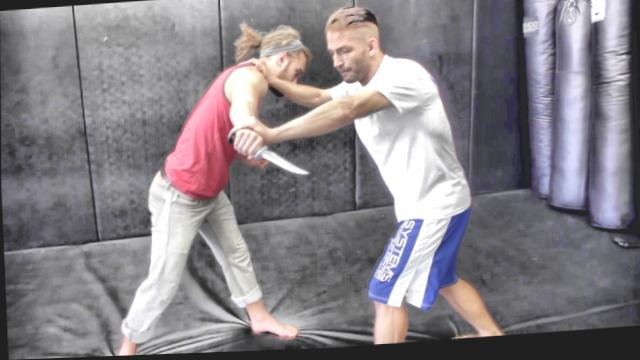knife: (222, 121, 313, 187)
